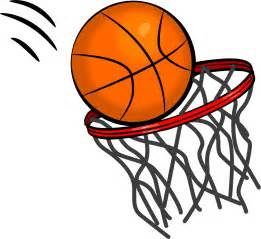basketball: (68, 1, 196, 128)
